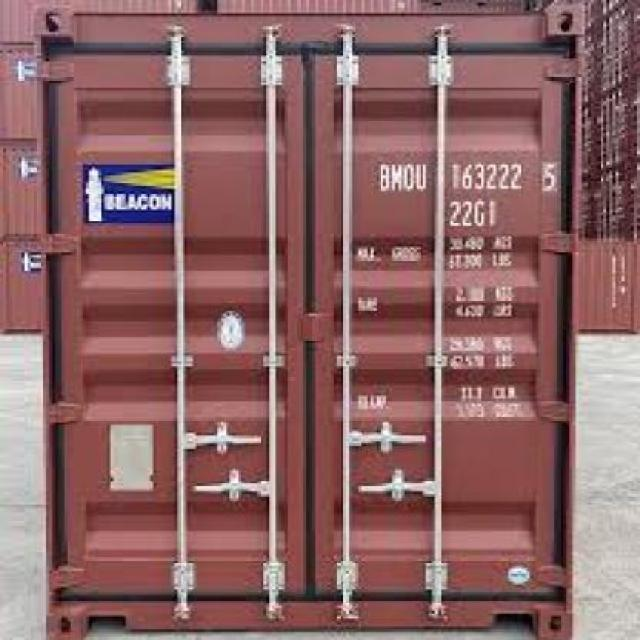ISO: (448, 200, 493, 228)
container_number: (381, 162, 548, 192)
